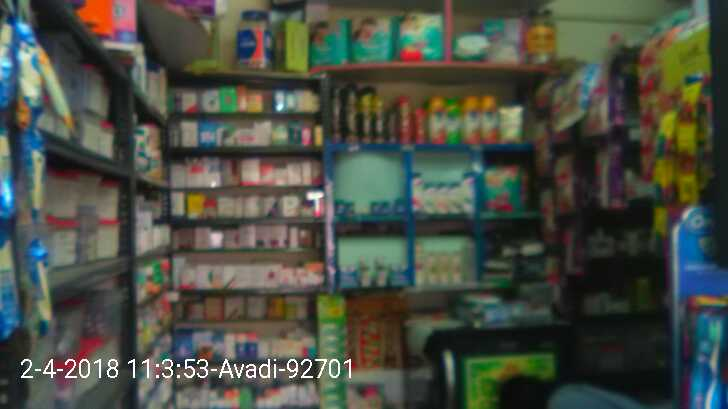vicks: (329, 197, 407, 217)
